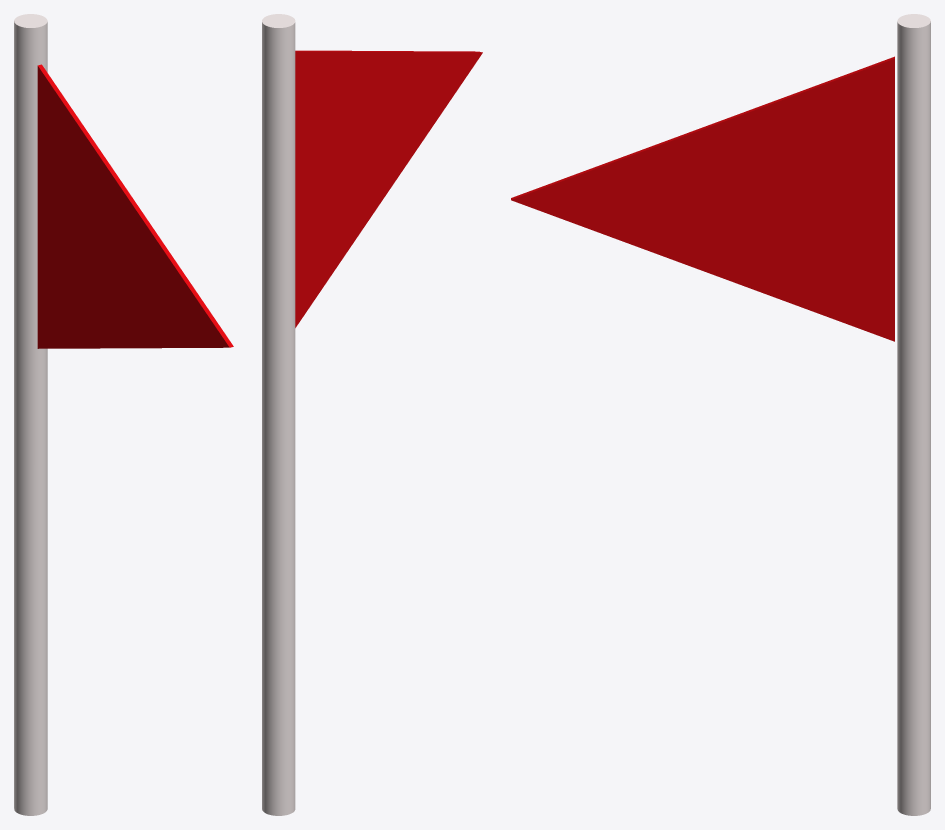
The model's file is flag.fbx.
3 views of the same model, side by side, from view 1: azimuth 30°, elevation 25°; view 2: azimuth 150°, elevation 25°; view 3: azimuth 270°, elevation 25° (orthographic).
Parts seen in each view (by area): view 1: Cube, Cylinder; view 2: Cylinder, Cube; view 3: Cube, Cylinder.
Part boxes in pixels (left/top/right/bottom): Cube: left=37, top=64, right=233, bottom=348; Cylinder: left=14, top=14, right=47, bottom=815; Cylinder: left=262, top=14, right=295, bottom=815; Cube: left=295, top=50, right=482, bottom=327; Cube: left=511, top=56, right=894, bottom=341; Cylinder: left=897, top=14, right=930, bottom=815.
Bounding box in the file's own units: 18.23 × 473 × 229.
